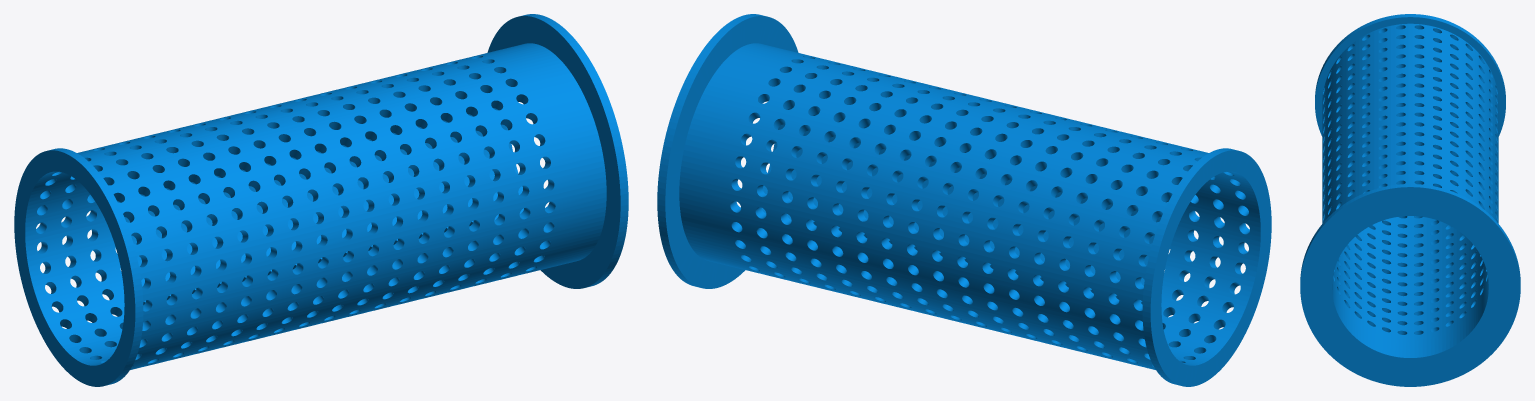
The model's file is membrane.fbx.
3 views of the same model, side by side, from view 1: azimuth 30°, elevation 25°; view 2: azimuth 150°, elevation 25°; view 3: azimuth 270°, elevation 25° (orthographic). The views are drawn at different scales.
Parts seen in each view (by area): view 1: imagetostl_mesh; view 2: imagetostl_mesh; view 3: imagetostl_mesh.
Boxes of the visible parts, left/top/right/bottom form: imagetostl_mesh: left=14, top=14, right=628, bottom=386; imagetostl_mesh: left=657, top=14, right=1271, bottom=386; imagetostl_mesh: left=1300, top=14, right=1520, bottom=386.
Bounding box in the file's own units: 9000 × 4500 × 4499.
